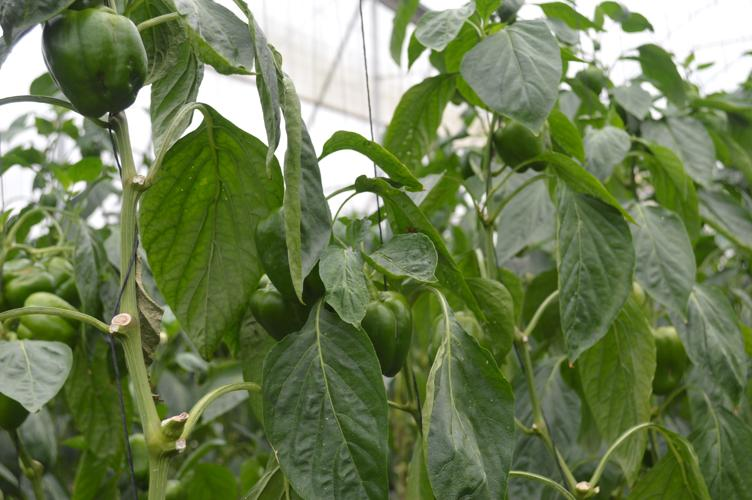BellPepper: (37, 7, 159, 126), (249, 205, 335, 303), (489, 89, 563, 185), (355, 280, 415, 381), (232, 273, 310, 348)
